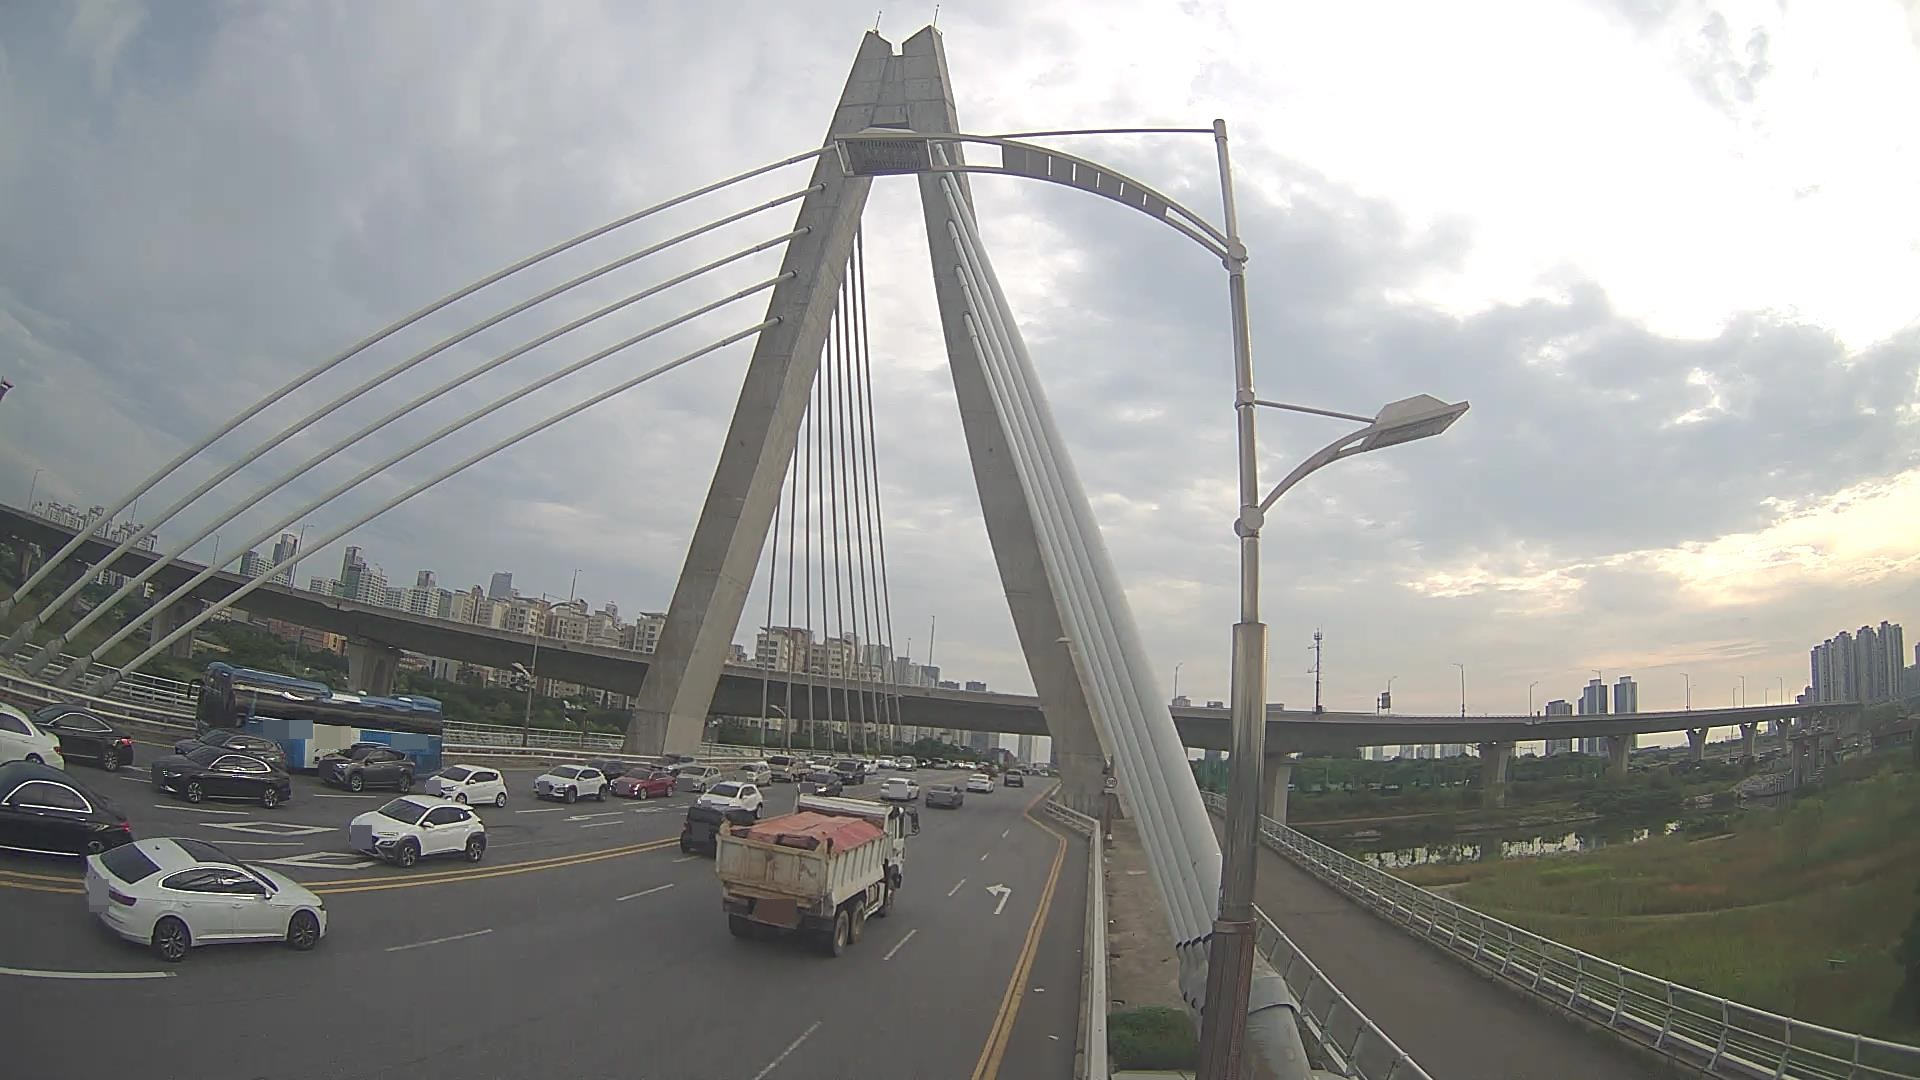정상차량: (715, 789, 920, 956)
